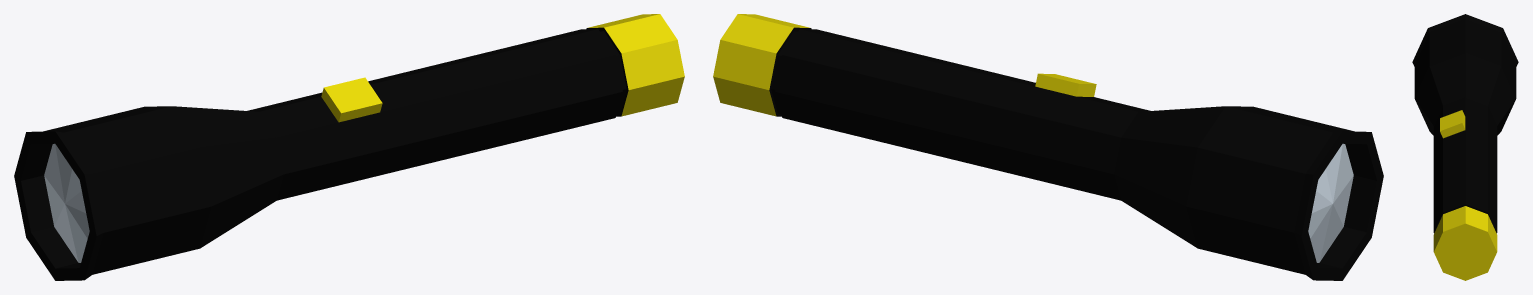
File: Lampe_torche.glb
3 renders of one model, left to right at view 1: azimuth 30°, elevation 25°; view 2: azimuth 150°, elevation 25°; view 3: azimuth 270°, elevation 25°, orthographic. The views are drawn at different scales.
Visible parts, largest first — view 1: Circle; view 2: Circle; view 3: Circle.
Boxes of the visible parts, x1=… form: Circle: x1=14, y1=14, x2=684, y2=280; Circle: x1=713, y1=14, x2=1383, y2=280; Circle: x1=1412, y1=14, x2=1518, y2=280.
Size of the model in its own units: 14.2 by 3.36 by 3.36.
